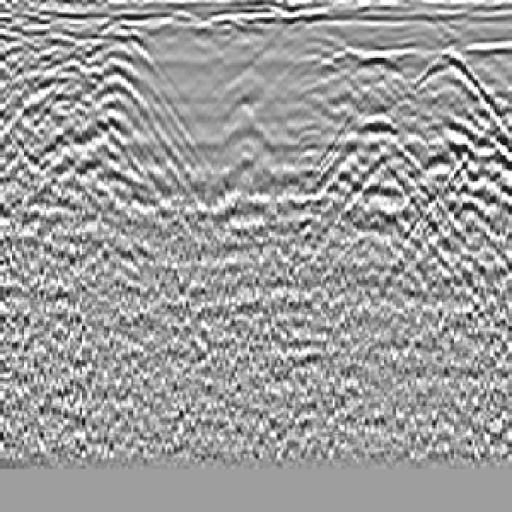non-metallic: (26, 14, 225, 256), (282, 32, 440, 257), (401, 33, 509, 252)
